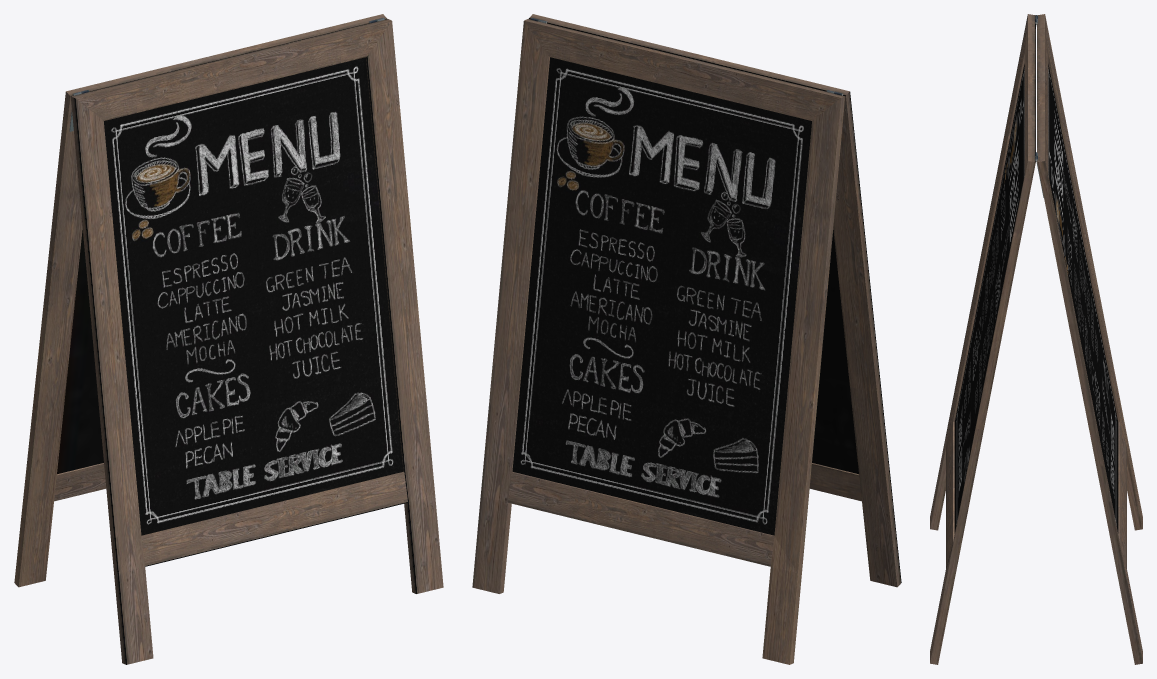
File: SM_Chalk_Board_01.glb
3 views of the same model, side by side, from view 1: azimuth 30°, elevation 25°; view 2: azimuth 150°, elevation 25°; view 3: azimuth 270°, elevation 25° (orthographic). The views are drawn at different scales.
Visible parts, largest first — view 1: SM_Chalk_Board_01; view 2: SM_Chalk_Board_01; view 3: SM_Chalk_Board_01.
Boxes of the visible parts, x1,y1,x2,y2 form: SM_Chalk_Board_01: [14, 14, 443, 664]; SM_Chalk_Board_01: [472, 14, 901, 664]; SM_Chalk_Board_01: [930, 14, 1142, 664].
Bounding box in the file's own units: 0.8434 × 1.35 × 0.516.
Materials: 1 (1 with a texture image).
